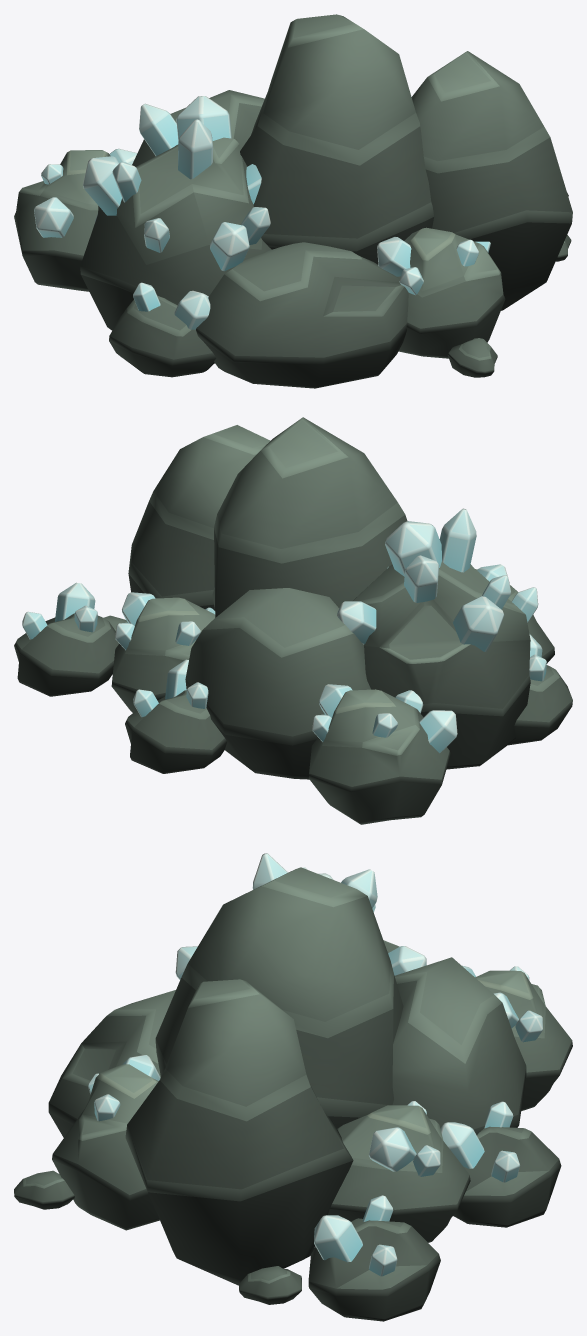
File: arangement_christal_ore_L.fbx
3 renders of one model, top to bottom at view 1: azimuth 30°, elevation 25°; view 2: azimuth 150°, elevation 25°; view 3: azimuth 270°, elevation 25°, orthographic. The views are drawn at different scales.
Parts seen in each view (by area): view 1: arangement_christal_ore_L; view 2: arangement_christal_ore_L; view 3: arangement_christal_ore_L.
Part boxes in pixels (box(x1,y1,x2,y2)): arangement_christal_ore_L: box(14, 14, 572, 388); arangement_christal_ore_L: box(14, 417, 572, 824); arangement_christal_ore_L: box(14, 853, 572, 1321).
Bounding box in the file's own units: 528 × 325 × 464.
Materials: 1 (1 with a texture image).
